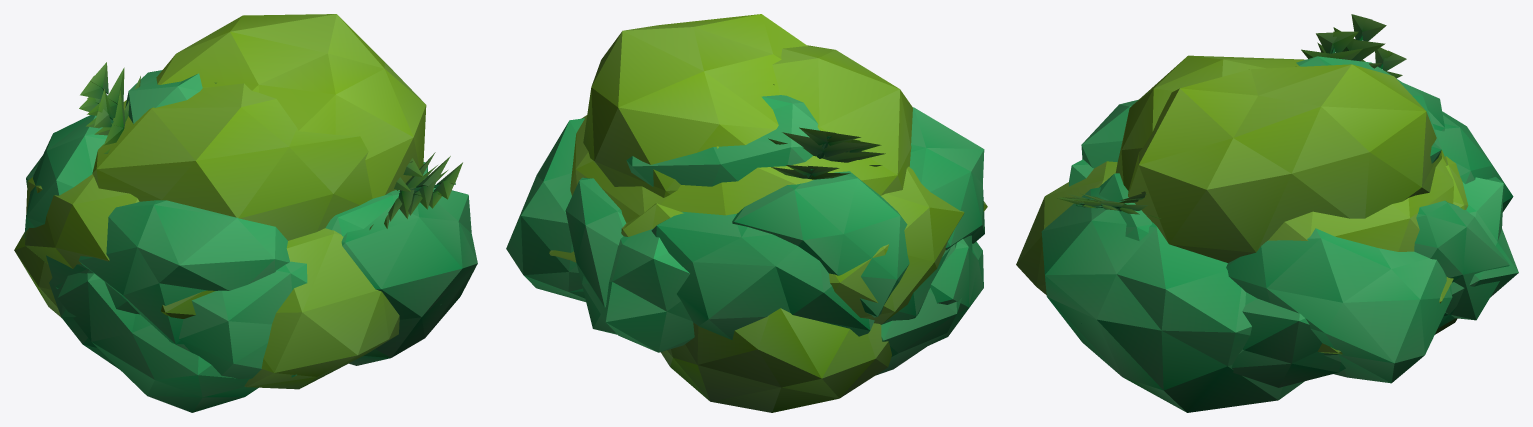
Rendered from vegetasi_bush_emerald_765145.glb.
3 renders of one model, left to right at view 1: azimuth 30°, elevation 25°; view 2: azimuth 150°, elevation 25°; view 3: azimuth 270°, elevation 25°, orthographic. The views are drawn at different scales.
Visible parts, largest first — view 1: Semak_Belukar_Sungai; view 2: Semak_Belukar_Sungai; view 3: Semak_Belukar_Sungai.
Boxes of the visible parts, bbox=[...] form: Semak_Belukar_Sungai: bbox=[14, 14, 477, 412]; Semak_Belukar_Sungai: bbox=[506, 14, 987, 412]; Semak_Belukar_Sungai: bbox=[1016, 14, 1518, 412].
Bounding box in the file's own units: 2.61 × 1.98 × 2.79.
